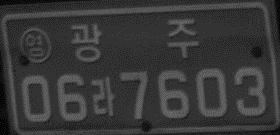0: (195, 66, 229, 119), (20, 73, 52, 123)
3: (233, 66, 267, 116)
6: (156, 69, 190, 120), (56, 72, 87, 122)
7: (118, 71, 150, 120)
광주_D: (69, 18, 199, 62)
라: (90, 76, 116, 118)
영: (17, 26, 52, 64)
